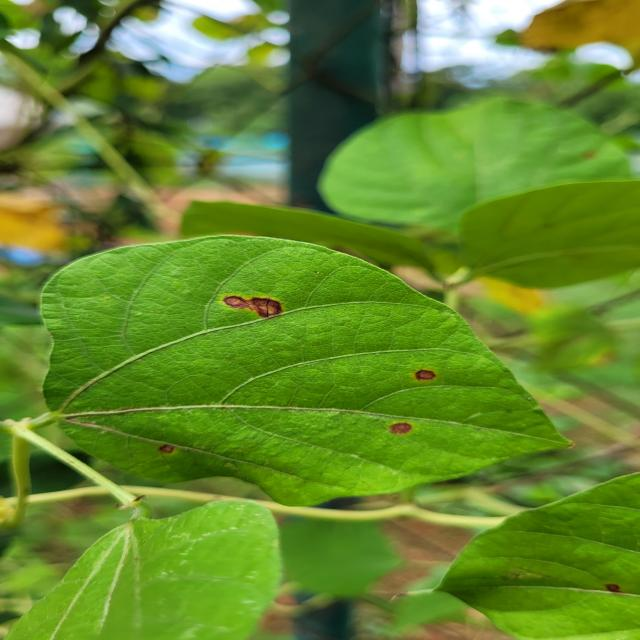Dolicos bean_cercospora leaf spot: (37, 232, 583, 496)
Dolicos bean_healthy: (322, 91, 640, 285)
